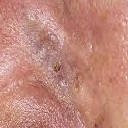Carcinoma: (48, 58, 69, 83)
